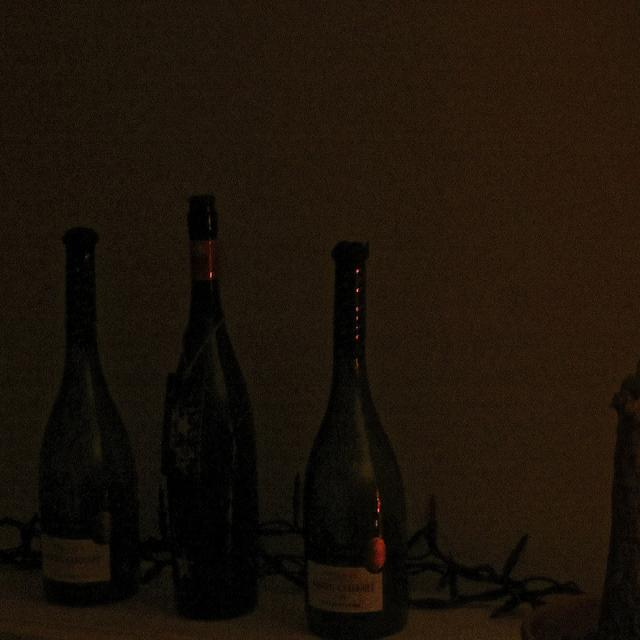Bottle: (310, 239, 453, 640), (161, 186, 269, 633), (46, 222, 134, 618)
